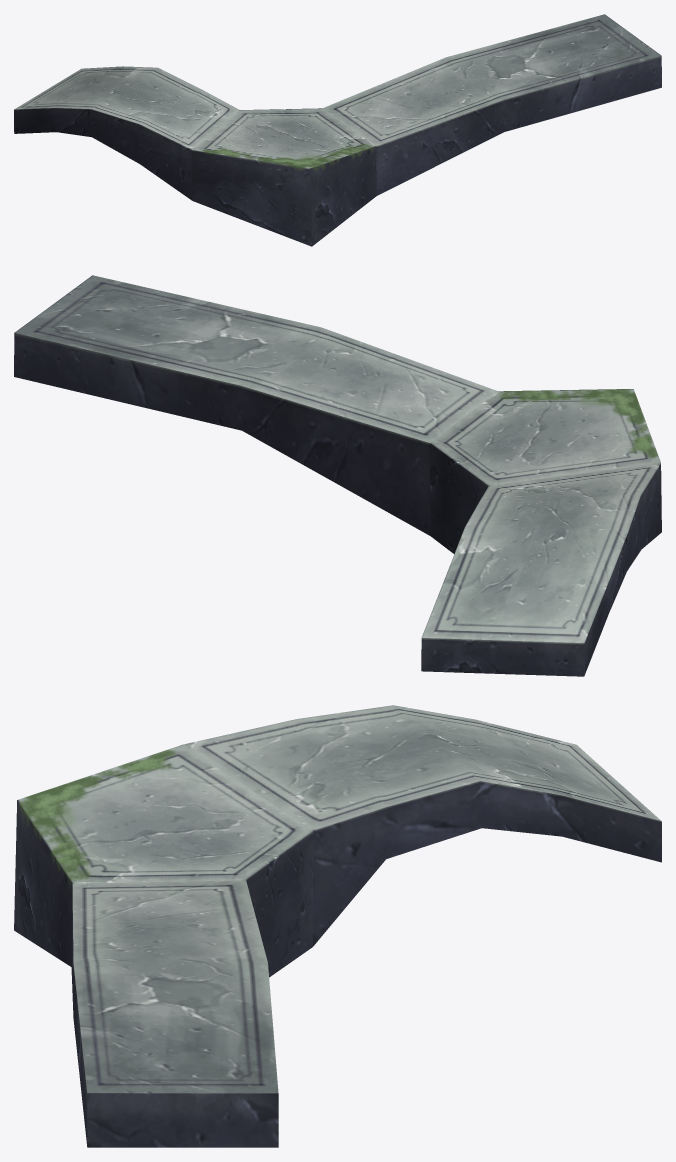
File: tashuiqiao01.FBX
3 views of the same model, one above another, from view 1: azimuth 30°, elevation 25°; view 2: azimuth 150°, elevation 25°; view 3: azimuth 270°, elevation 25° (orthographic). The views are drawn at different scales.
Visible parts, largest first — view 1: tashuiqiao; view 2: tashuiqiao; view 3: tashuiqiao.
Boxes of the visible parts, x1,y1,x2,y2 form: tashuiqiao: [14, 14, 661, 246]; tashuiqiao: [14, 275, 661, 676]; tashuiqiao: [14, 705, 661, 1147].
Size of the model in its own units: 656 by 436 by 107.
